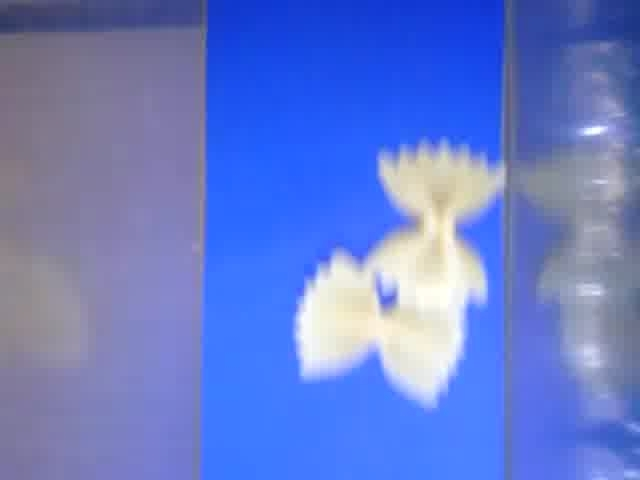farfalle: (296, 250, 464, 408), (370, 144, 503, 305)
